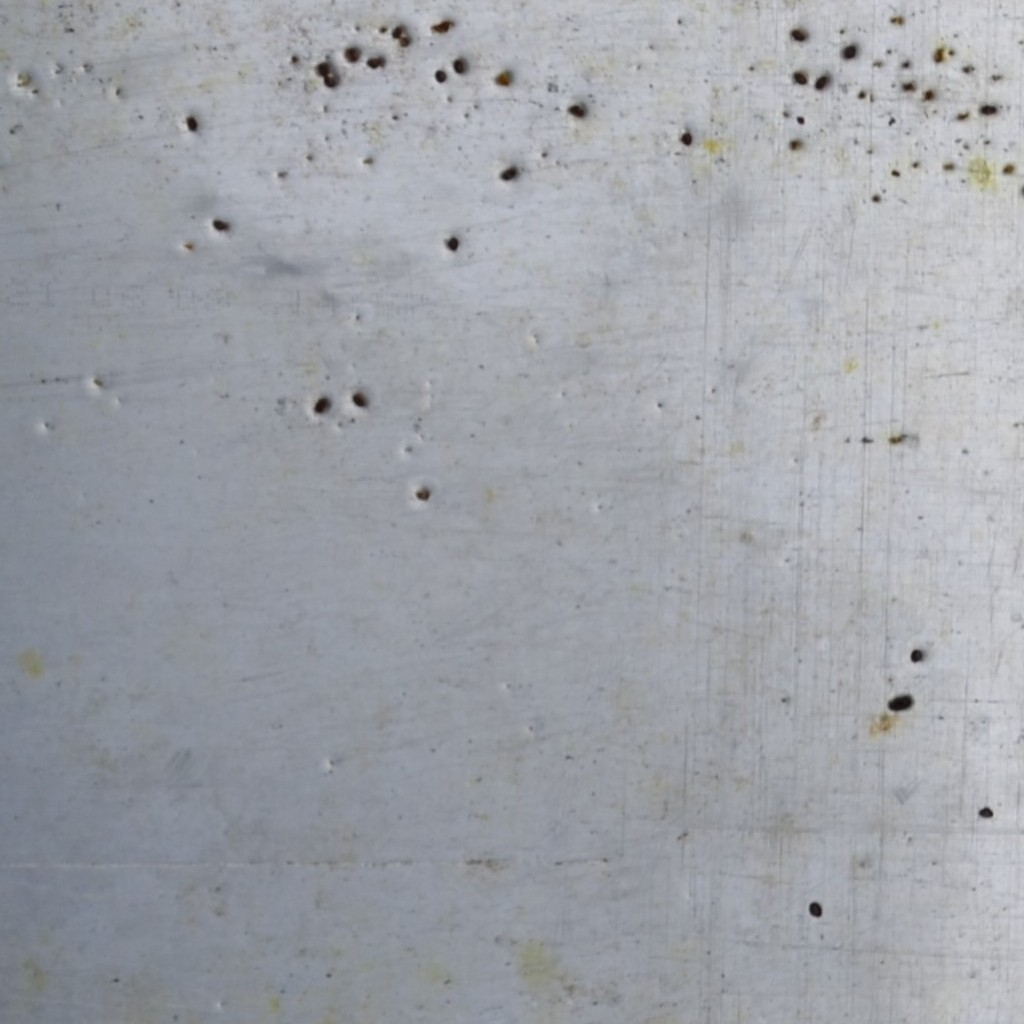varroa: (885, 691, 914, 719), (498, 165, 521, 185), (365, 52, 385, 73), (975, 801, 996, 820), (211, 214, 231, 233), (313, 394, 330, 416), (678, 126, 693, 149), (812, 72, 829, 92), (445, 233, 460, 255), (315, 57, 333, 75), (350, 390, 369, 407), (792, 67, 809, 86), (979, 102, 999, 118), (185, 114, 200, 135), (789, 25, 807, 42), (840, 43, 856, 61), (808, 899, 823, 918), (909, 646, 924, 664), (345, 47, 360, 64), (452, 53, 464, 74), (433, 68, 448, 84), (322, 73, 339, 87)
